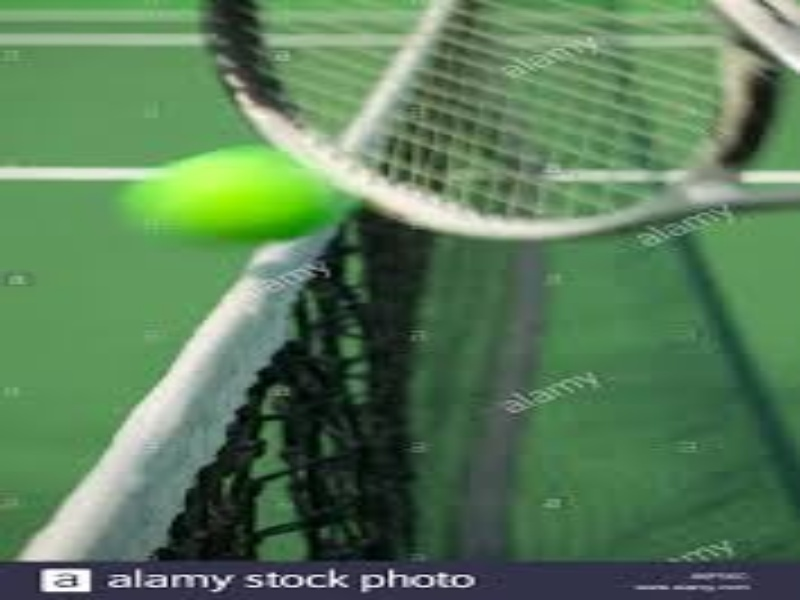tennis ball: (114, 133, 367, 271)
